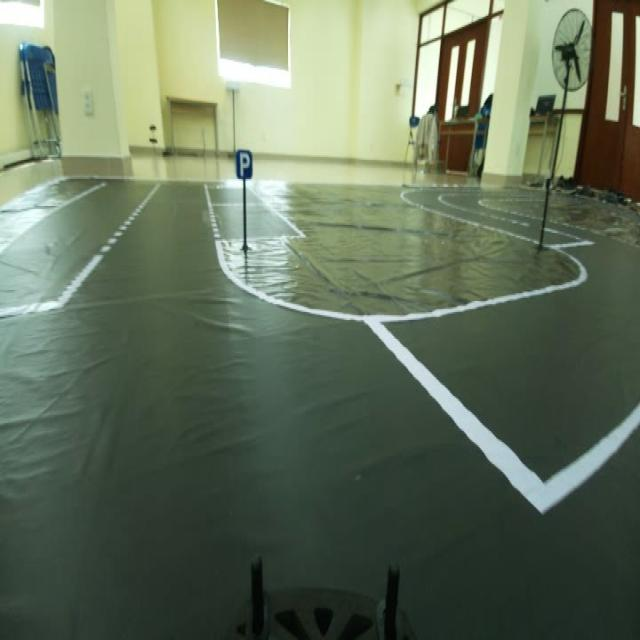parking: (230, 145, 257, 186)
